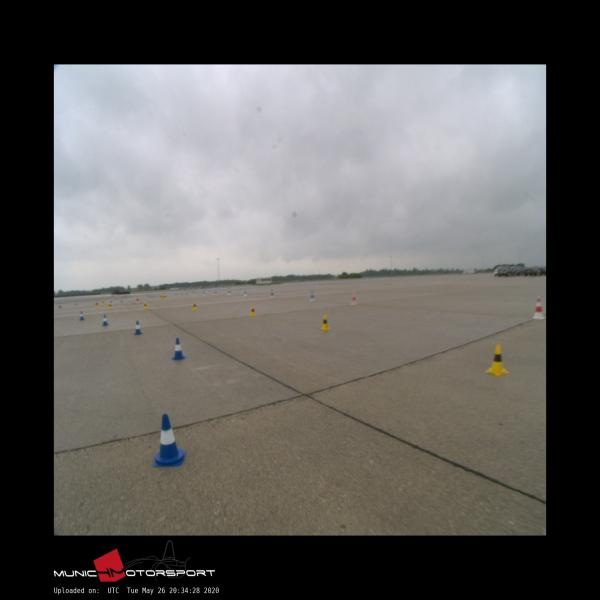blue_cone: (153, 414, 185, 467), (171, 338, 185, 360), (134, 320, 142, 334), (102, 315, 109, 325), (79, 311, 85, 320)
yellow_cone: (486, 345, 509, 375), (320, 315, 330, 330), (250, 306, 256, 315), (193, 301, 198, 310), (143, 301, 148, 309), (108, 302, 112, 309)
